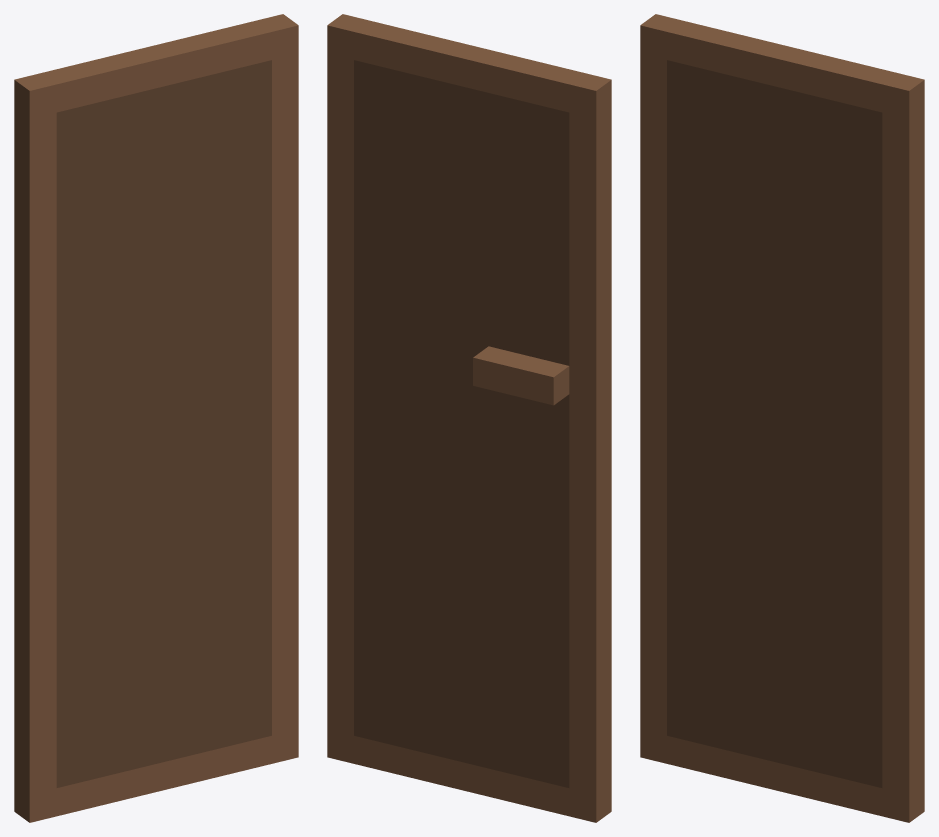
File: armoire-porte1.obj
3 renders of one model, left to right at view 1: azimuth 30°, elevation 25°; view 2: azimuth 150°, elevation 25°; view 3: azimuth 330°, elevation 25°, orthographic.
Bounding box in the file's own units: 1 × 2.6 × 0.2.
1 material, 1 textured.
